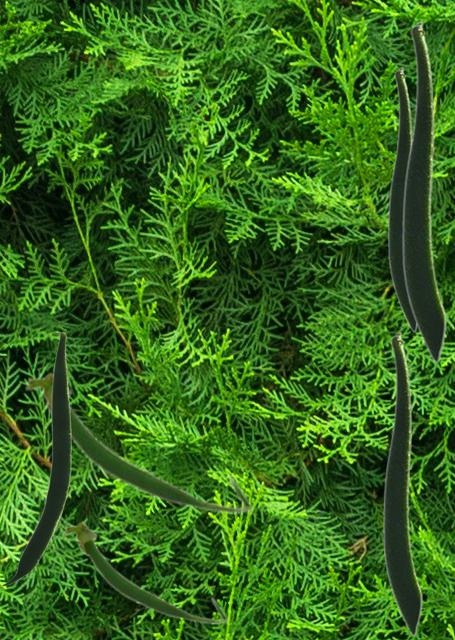french_bean: (23, 370, 253, 514), (0, 331, 70, 585), (62, 521, 228, 624), (401, 20, 446, 363), (382, 331, 422, 636), (387, 66, 417, 332)
